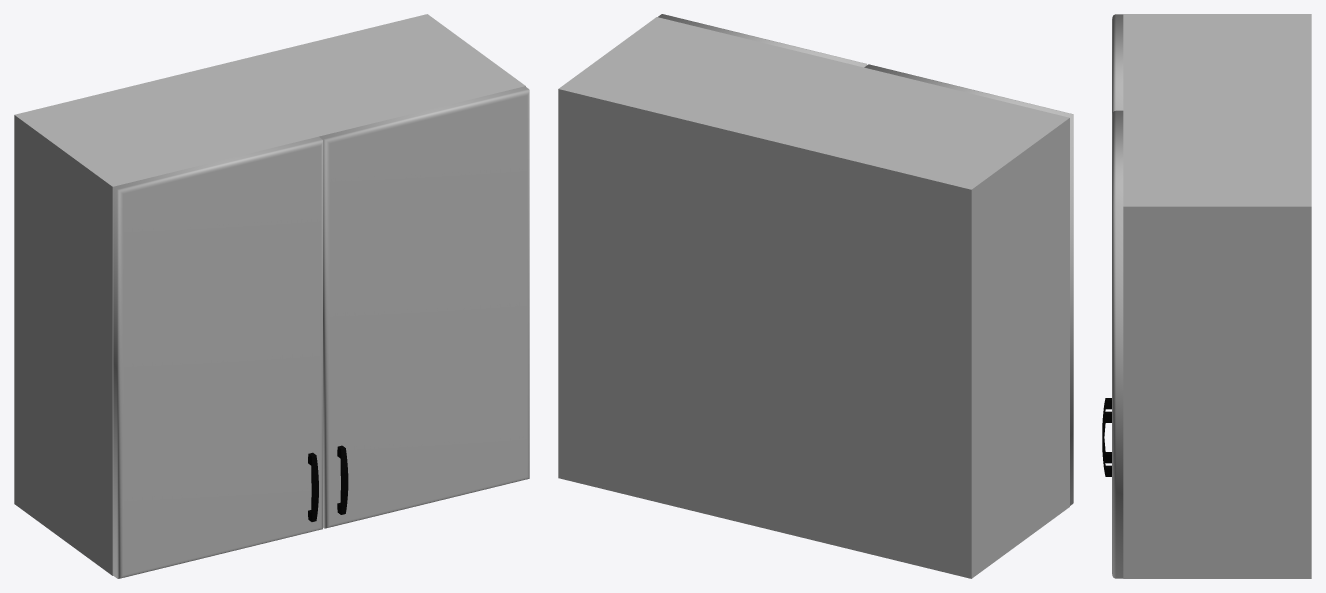
3 renders of one model, left to right at view 1: azimuth 30°, elevation 25°; view 2: azimuth 150°, elevation 25°; view 3: azimuth 270°, elevation 25°, orthographic. The views are drawn at different scales.
Visible parts, largest first — view 1: Box011, Box012, Box001; view 2: Box001, Box011, Box012; view 3: Box001, Box012, Box011, Obj3d66-503491-2-345.
Boxes of the visible parts, <box> form: Box011: <box>113,136,322,578</box>; Box012: <box>320,86,529,528</box>; Box001: <box>14,14,525,575</box>; Box001: <box>558,17,1069,578</box>; Box011: <box>864,64,1073,505</box>; Box012: <box>658,14,866,67</box>; Box001: <box>1123,14,1311,578</box>; Box012: <box>1112,110,1123,578</box>; Box011: <box>1112,14,1123,114</box>; Obj3d66-503491-2-345: <box>1102,411,1111,476</box>.
Size of the model in its own units: 0.8 by 0.72 by 0.3671.
2 materials, 1 textured.
